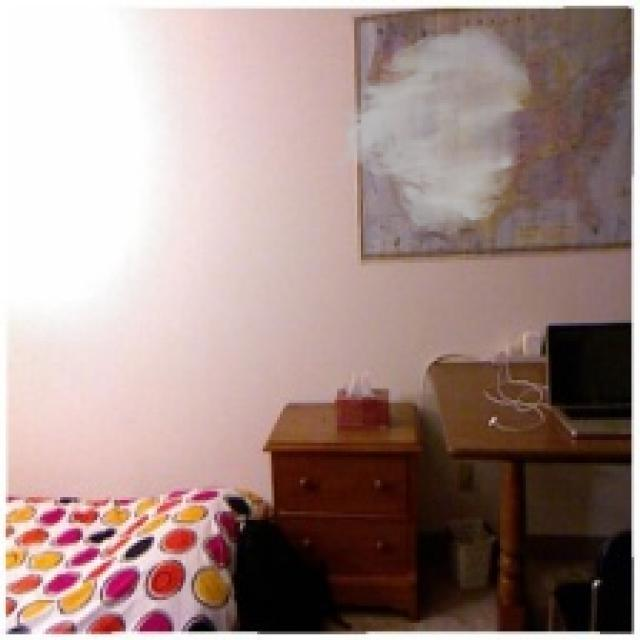Smoke: (332, 22, 534, 238)
